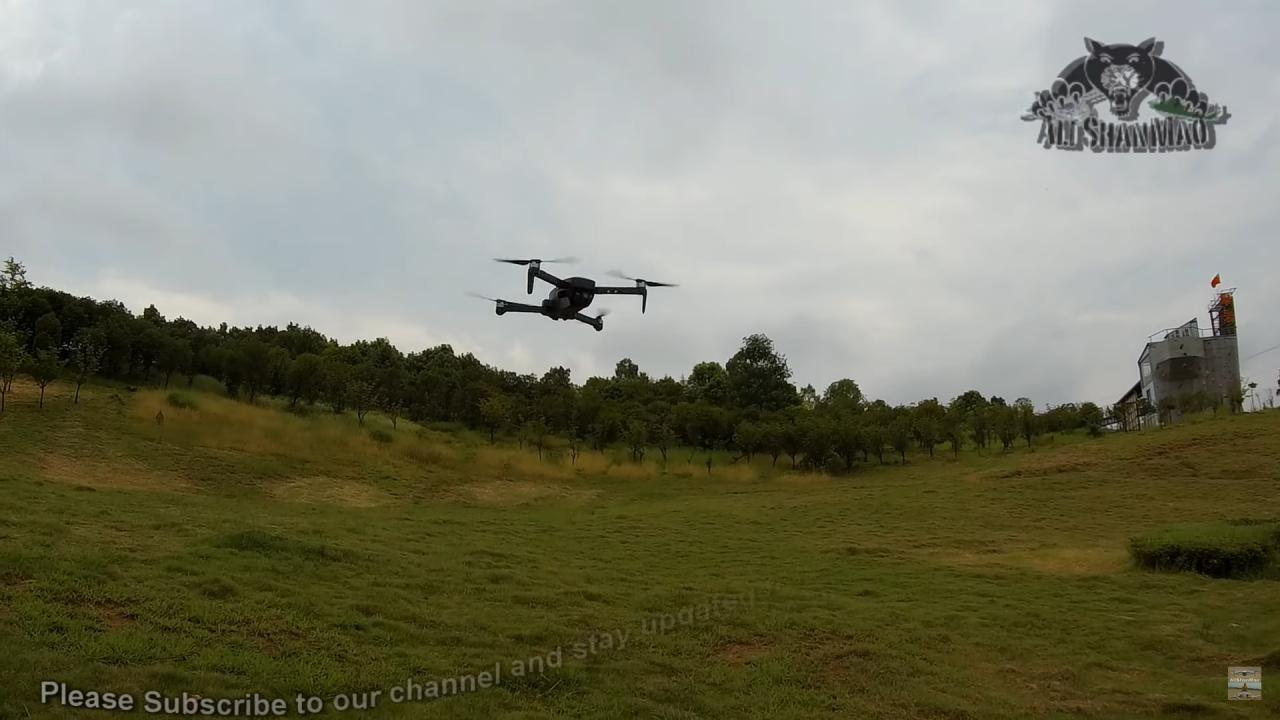Drone: (458, 244, 690, 346)
